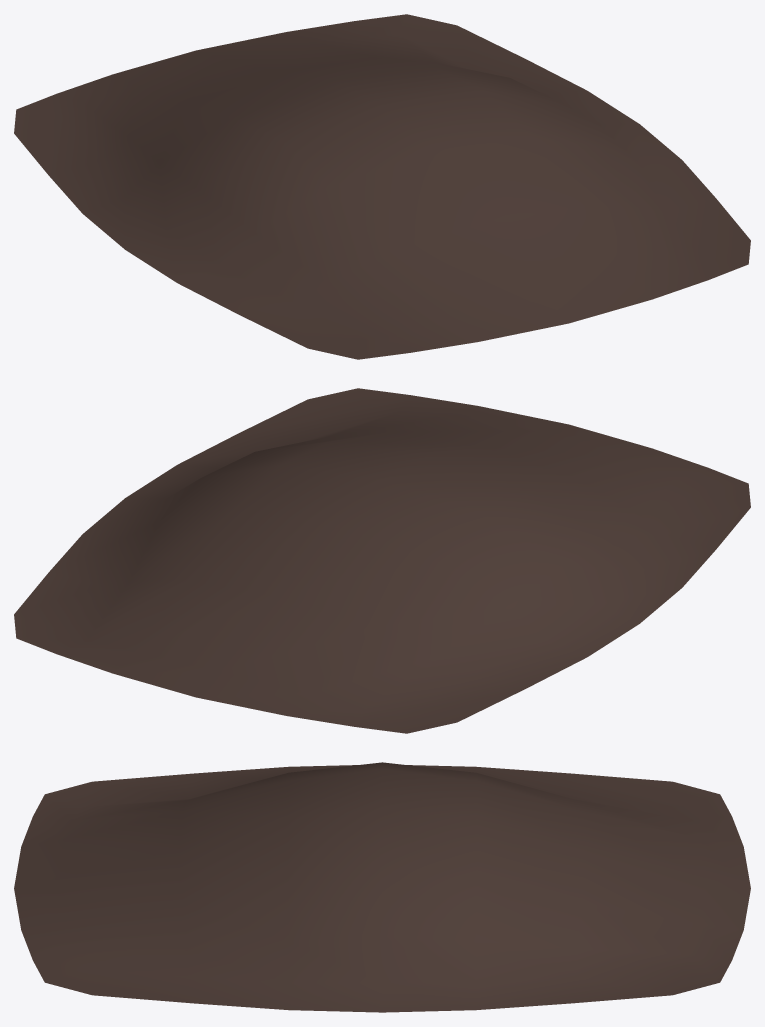
The model's file is grave_big.fbx.
3 renders of one model, top to bottom at view 1: azimuth 30°, elevation 25°; view 2: azimuth 150°, elevation 25°; view 3: azimuth 270°, elevation 25°, orthographic.
Visible parts, largest first — view 1: grave.big.001; view 2: grave.big.001; view 3: grave.big.001.
Part boxes in pixels (x1=…): grave.big.001: x1=14, y1=14, x2=750, y2=359; grave.big.001: x1=14, y1=388, x2=750, y2=733; grave.big.001: x1=14, y1=762, x2=750, y2=1012.
Bounding box in the file's own units: 627 × 93.02 × 787.
